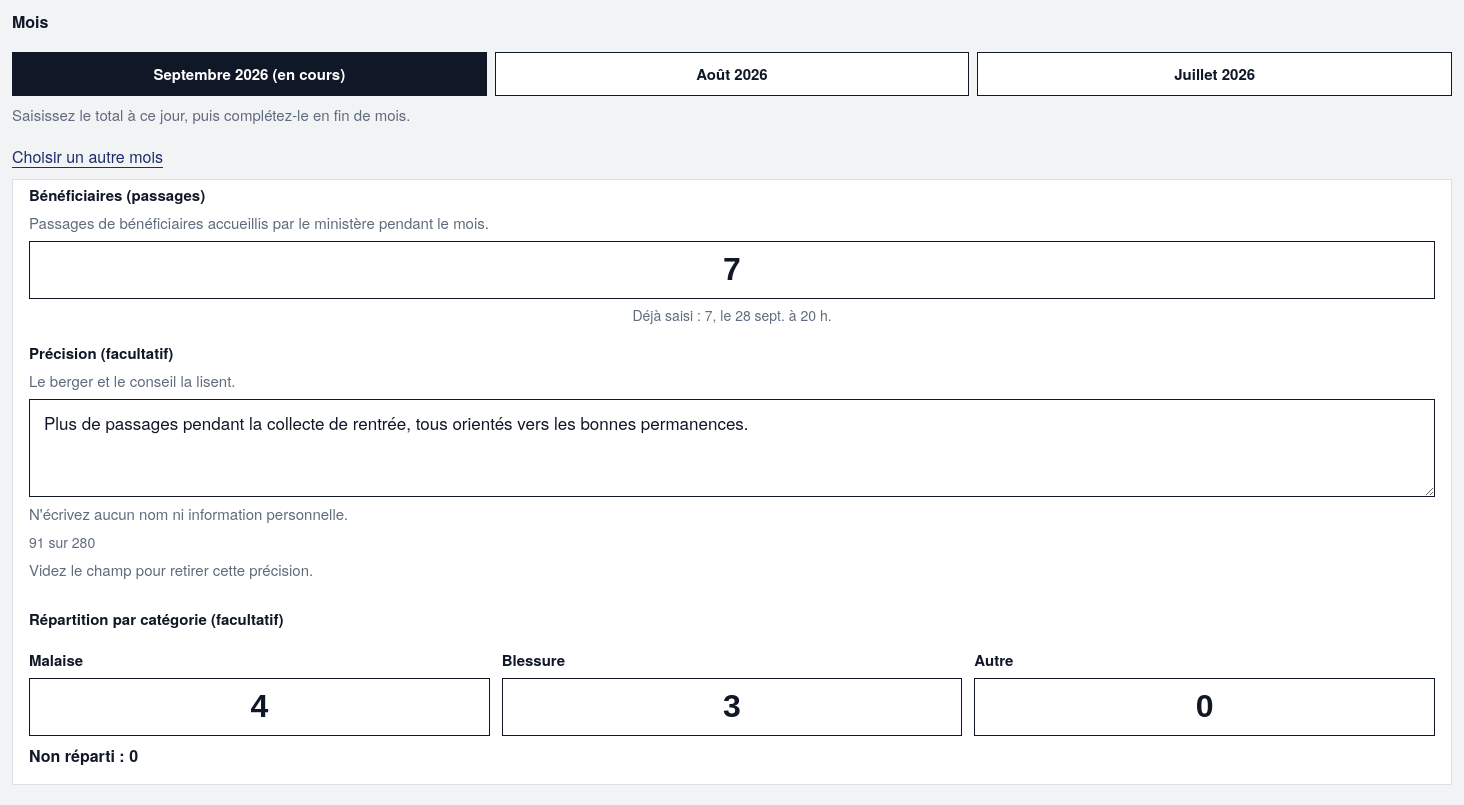
Test case: FormulaireMois (« Chiffres du mois ») › correction du total : la précision et la répartition reprises partent avec lui
The width and height of the screenshot is (1464, 805).
Replace the text in the field labelled "Bénéficiaires (passages)" with "9" at (732, 270), box [29, 240, 1435, 298]
(page scrolled)
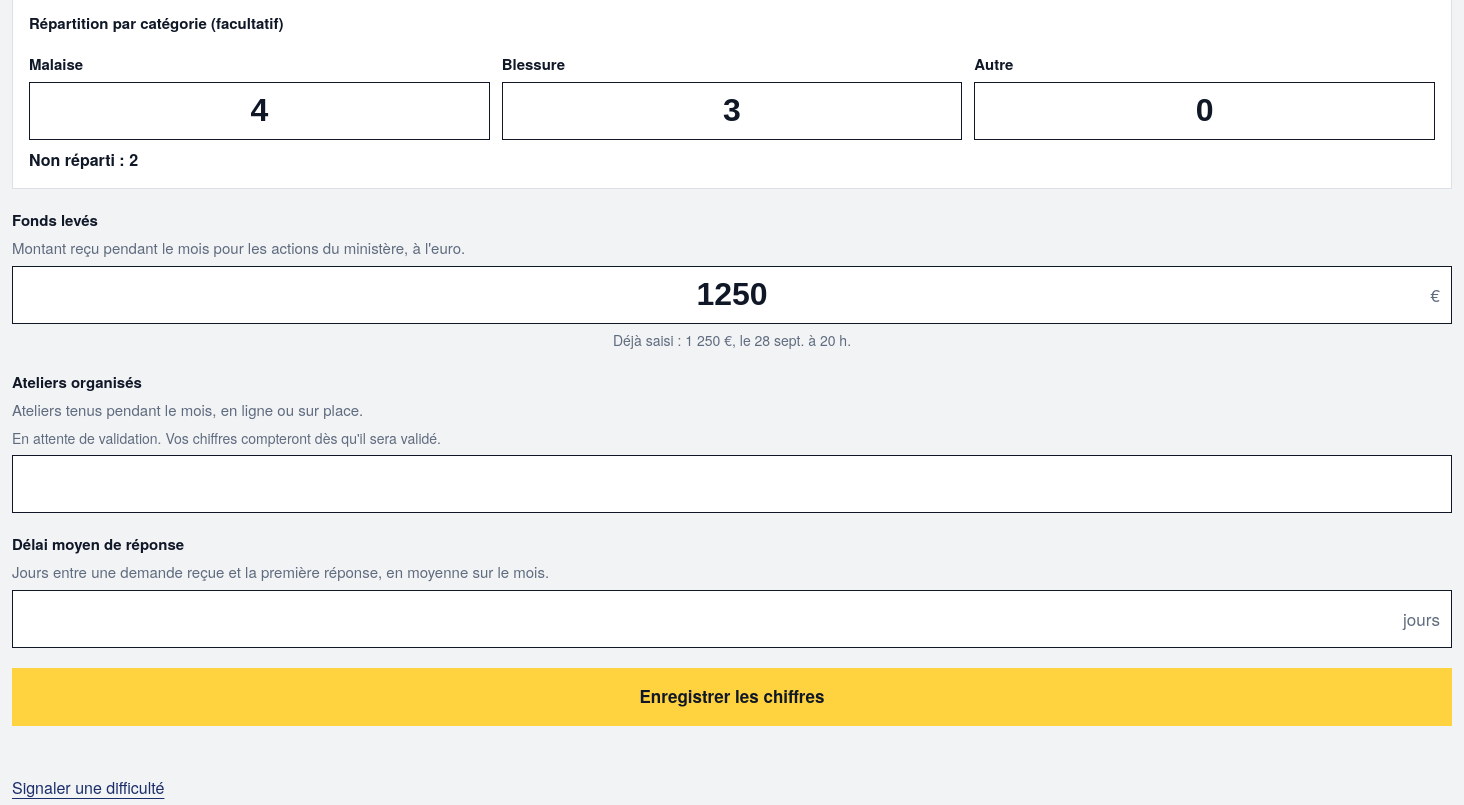
Result: the text "Non réparti : 2" is shown at [29, 148, 138, 170]
Click the button named "Enregistrer les chiffres" at (732, 696), box [12, 668, 1452, 726]
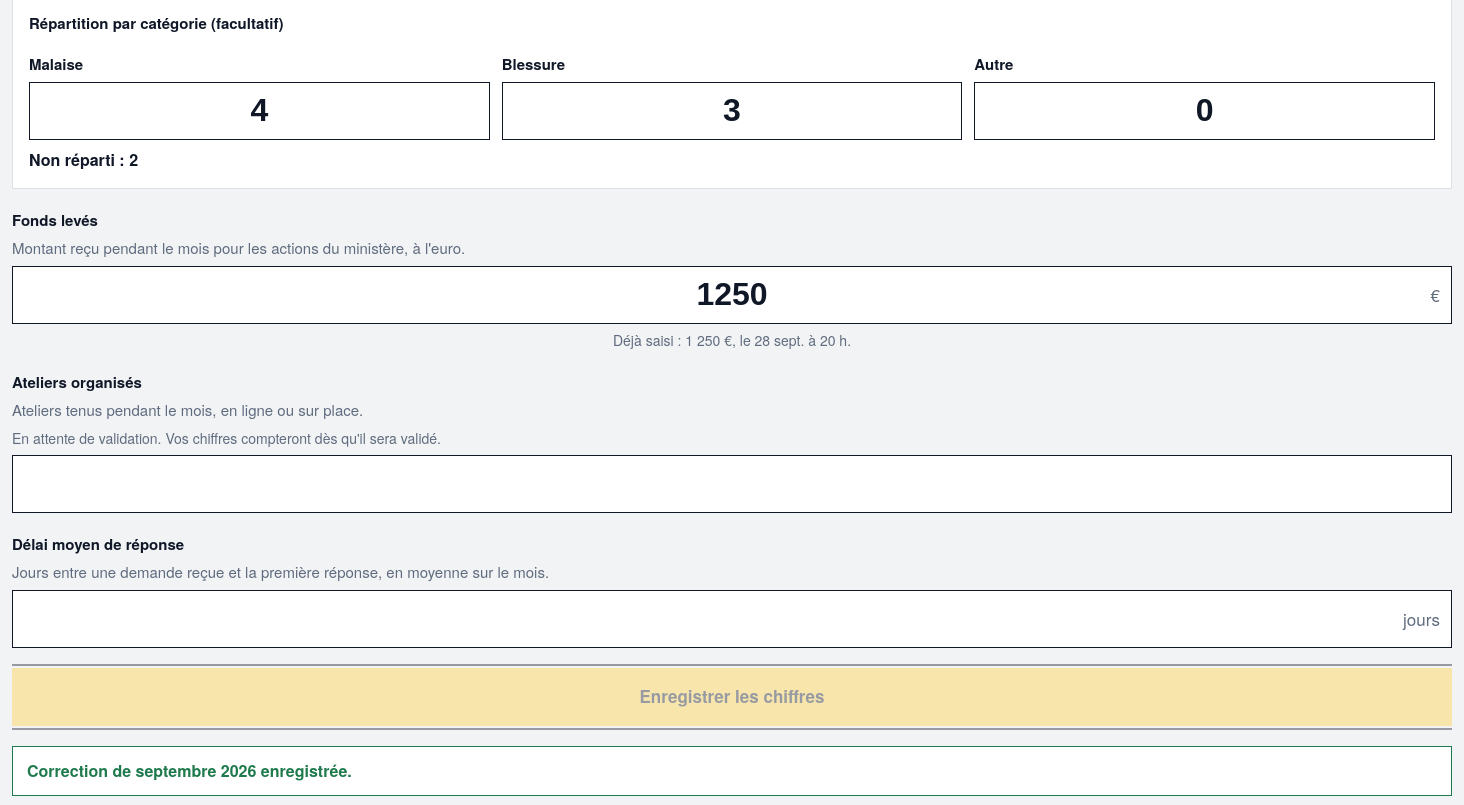
Result: the text "Correction de septembre 2026 enregistrée." is shown at [12, 746, 1452, 796]
